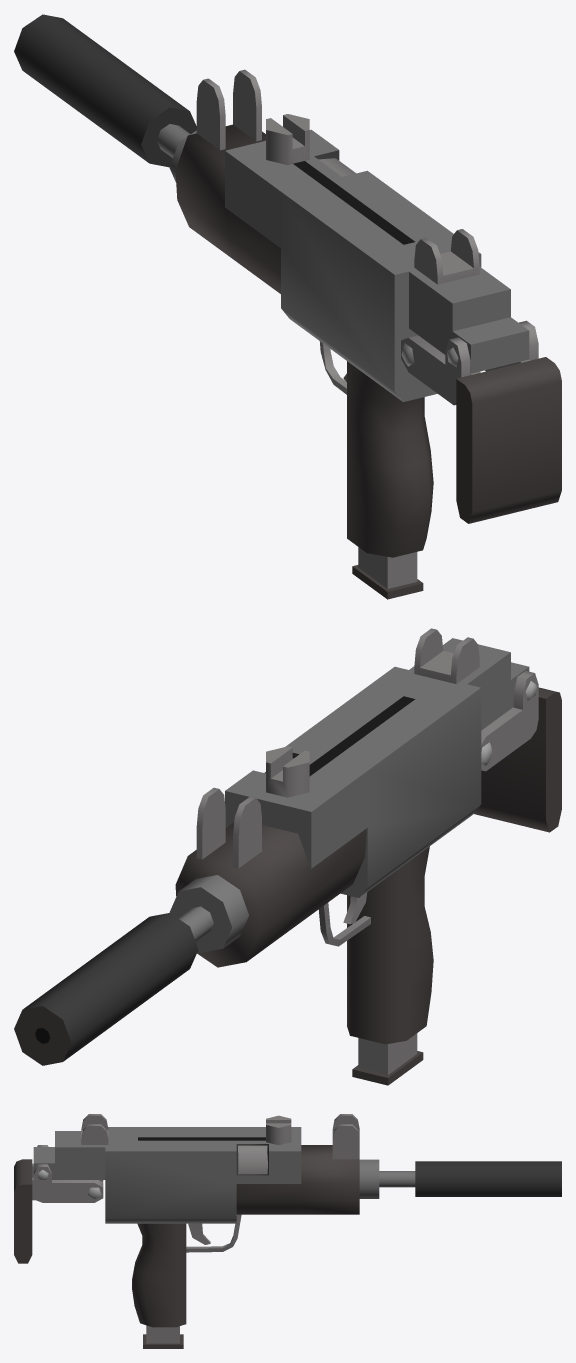
The model's file is Uzi.fbx.
3 views of the same model, one above another, from view 1: azimuth 30°, elevation 25°; view 2: azimuth 150°, elevation 25°; view 3: azimuth 270°, elevation 25° (orthographic). The views are drawn at different scales.
Visible parts, largest first — view 1: Uzi, Uzi Supressor, Uzi Magazine; view 2: Uzi, Uzi Supressor, Uzi Magazine; view 3: Uzi, Uzi Supressor, Uzi Magazine.
Boxes of the visible parts, x1,y1,x2,y2 form: Uzi: [157, 69, 561, 557]; Uzi Supressor: [14, 14, 196, 167]; Uzi Magazine: [352, 547, 423, 599]; Uzi: [169, 628, 561, 1044]; Uzi Supressor: [14, 913, 198, 1065]; Uzi Magazine: [352, 1033, 423, 1085]; Uzi: [14, 1114, 415, 1327]; Uzi Supressor: [415, 1161, 561, 1196]; Uzi Magazine: [143, 1325, 183, 1348].
Bounding box in the file's own units: 0.0764 × 0.315 × 0.6989.
